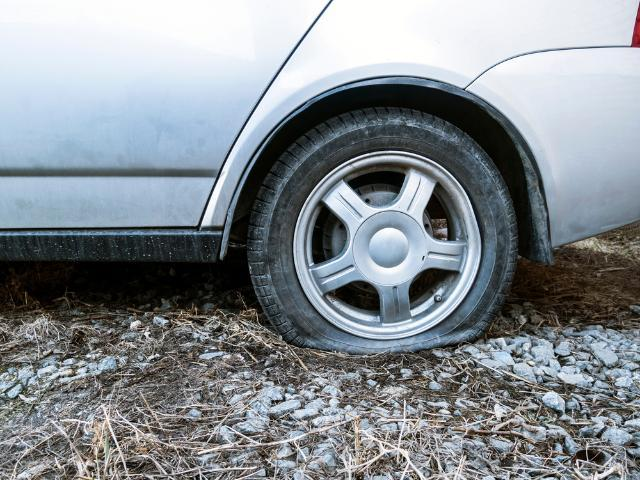tire flat: (248, 106, 519, 357)
